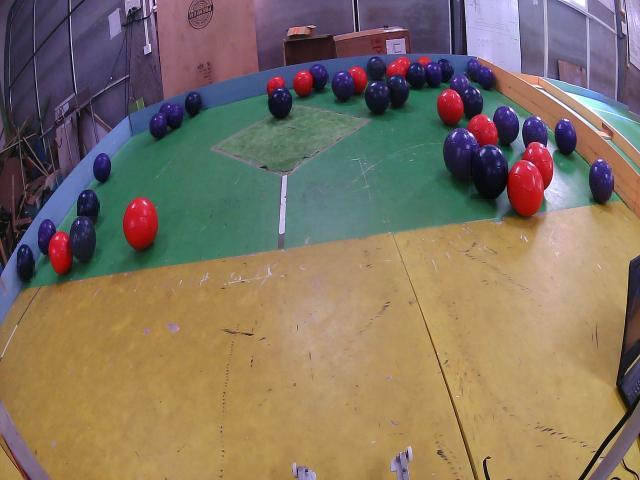jambhalya: (444, 129, 478, 178), (590, 159, 613, 203), (493, 107, 519, 144), (522, 116, 548, 146), (555, 118, 576, 155), (331, 71, 355, 101), (38, 218, 57, 255), (93, 153, 111, 182), (310, 65, 328, 91), (425, 62, 442, 88), (150, 114, 168, 138), (167, 104, 184, 129), (450, 75, 470, 95), (467, 60, 480, 81), (159, 103, 171, 116)
kaalyya: (471, 145, 509, 199), (69, 216, 96, 261), (365, 80, 390, 115), (268, 87, 293, 118), (77, 190, 99, 225), (461, 85, 484, 118), (386, 75, 409, 106), (17, 245, 34, 281), (406, 62, 426, 88), (185, 91, 202, 116), (367, 56, 385, 79), (479, 65, 494, 90), (438, 59, 453, 83)
